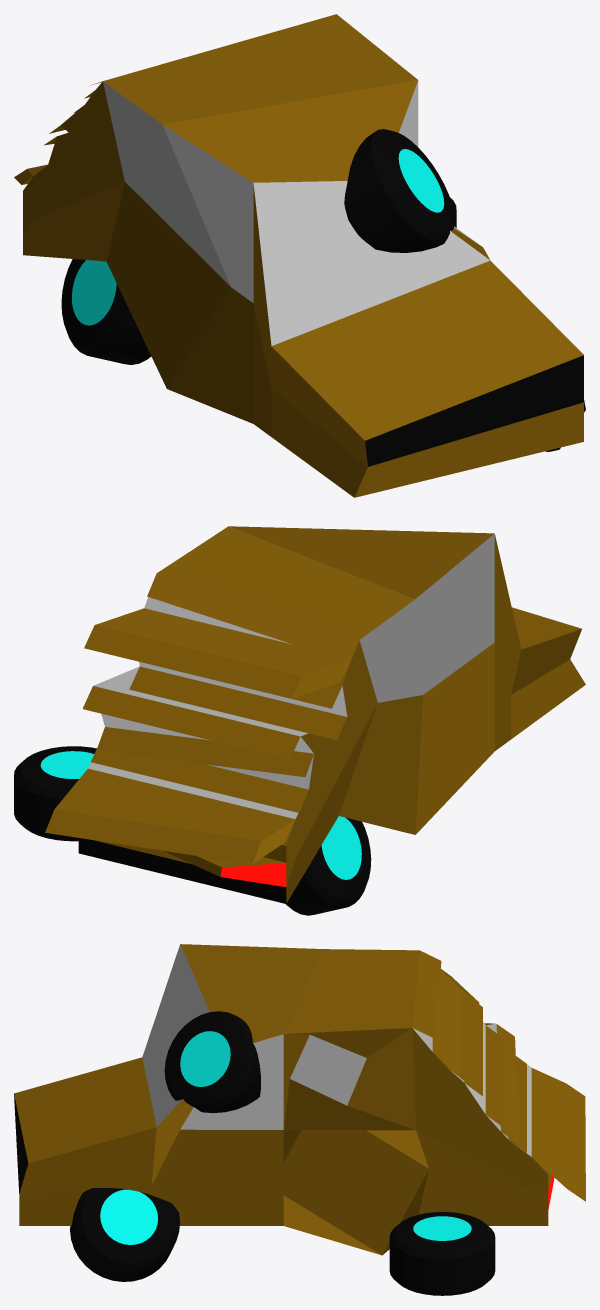
File: BrokenCarfbx.fbx
3 renders of one model, top to bottom at view 1: azimuth 30°, elevation 25°; view 2: azimuth 150°, elevation 25°; view 3: azimuth 270°, elevation 25°, orthographic. The views are drawn at different scales.
Visible parts, largest first — view 1: Car; view 2: Car; view 3: Car.
Part boxes in pixels (x1=…): Car: x1=14, y1=14, x2=585, y2=497; Car: x1=14, y1=526, x2=585, y2=915; Car: x1=14, y1=944, x2=585, y2=1295.
Size of the model in its own units: 296 by 235 by 491.
